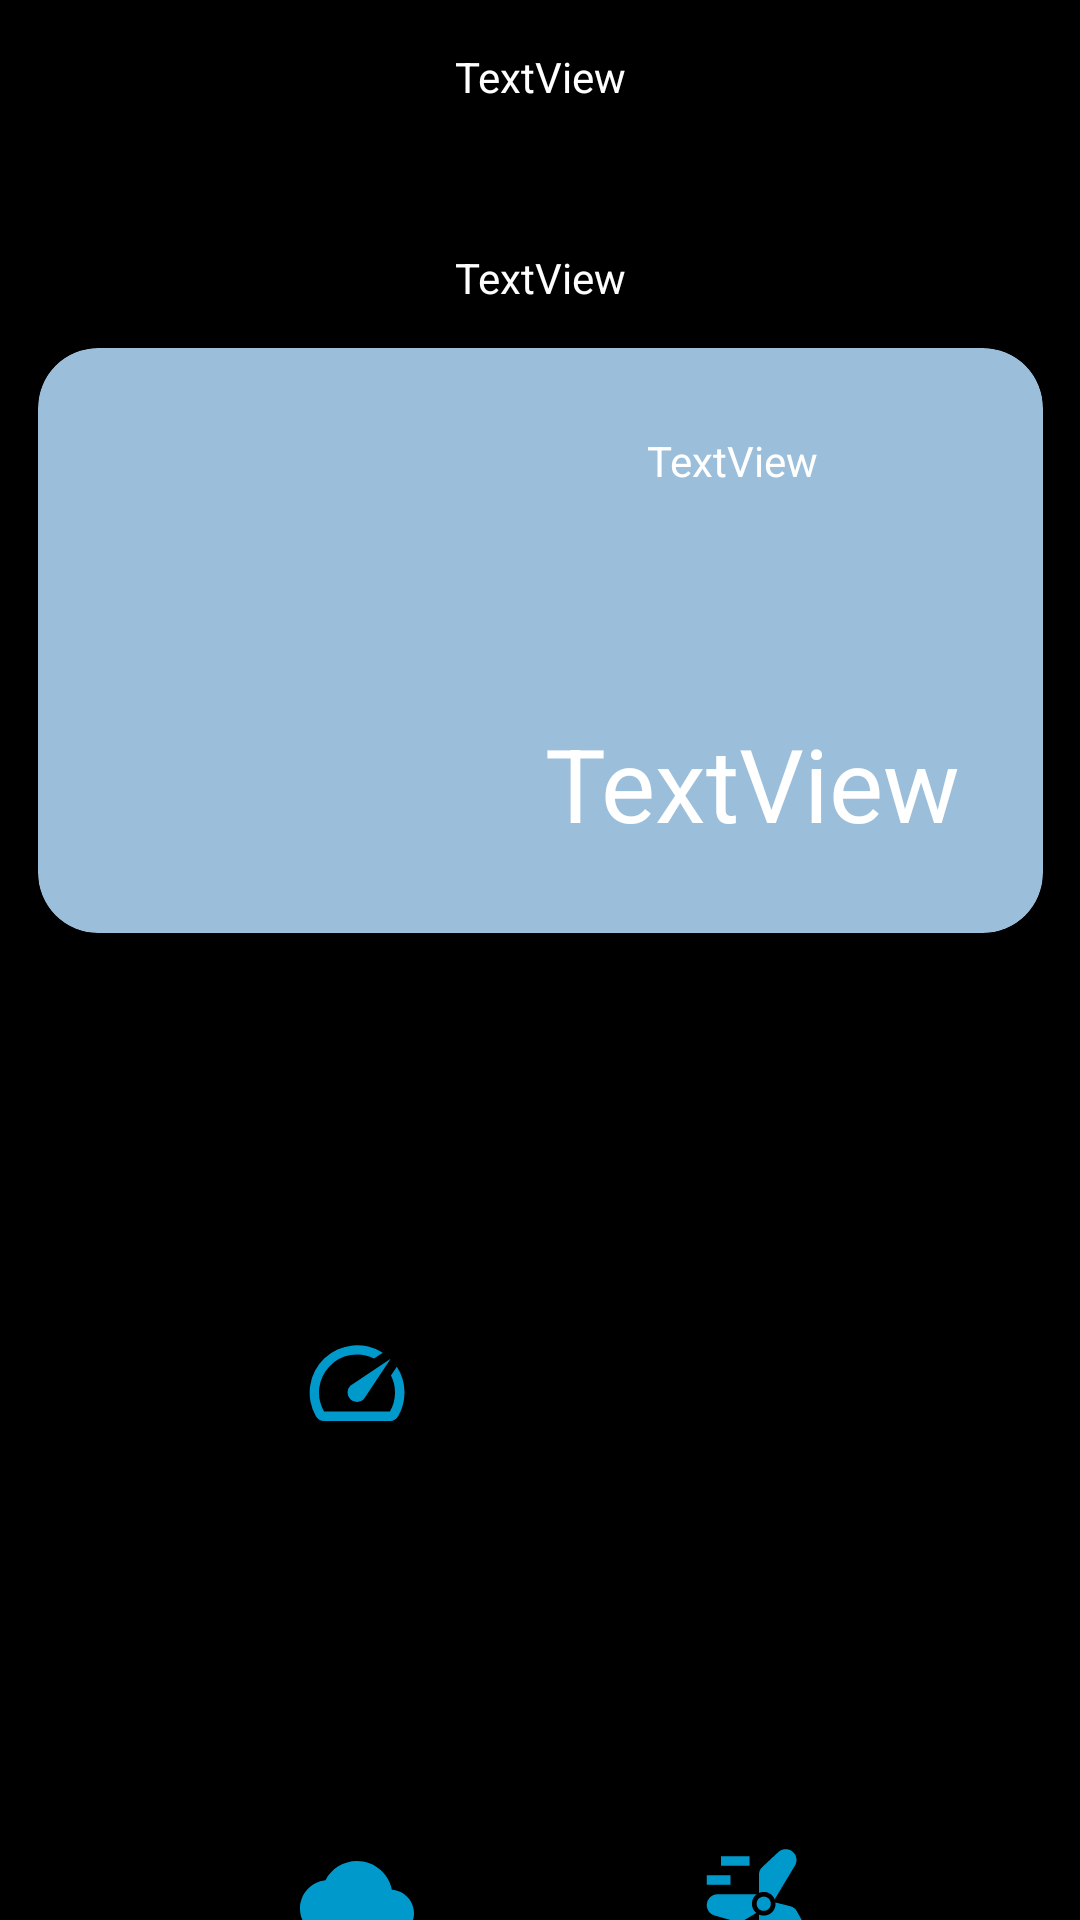

Screen size 1080 x 1920. Icon name, then its center in pixels as point (x, y):
pressure: point (357, 1383)
